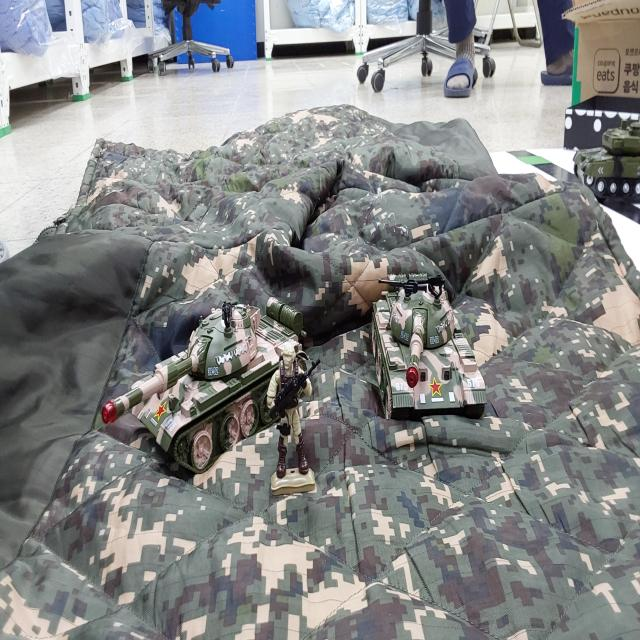ally: (266, 343, 320, 495)
